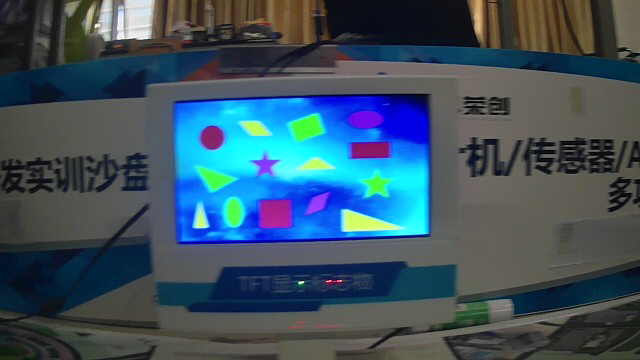graph: (170, 91, 439, 246)
